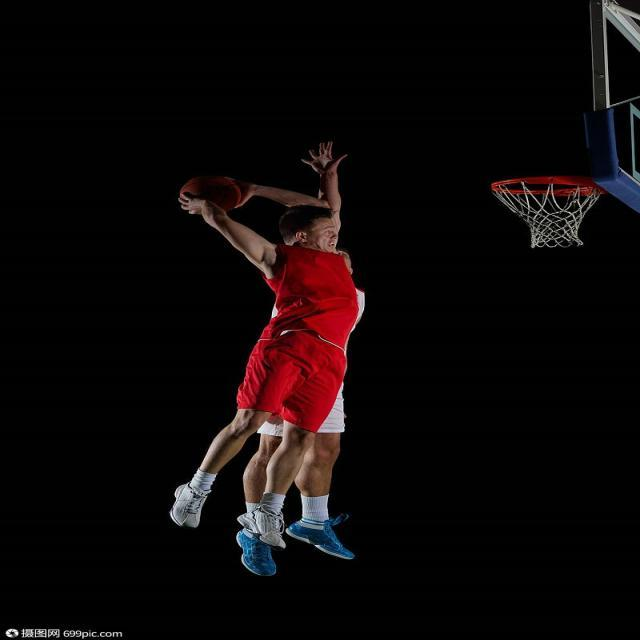rim: (175, 174, 251, 212)
